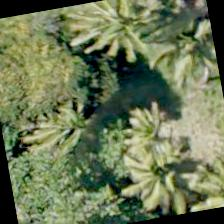Kelapa_Sawit: (96, 104, 200, 208), (134, 0, 220, 89), (72, 0, 172, 67), (178, 149, 223, 213)
